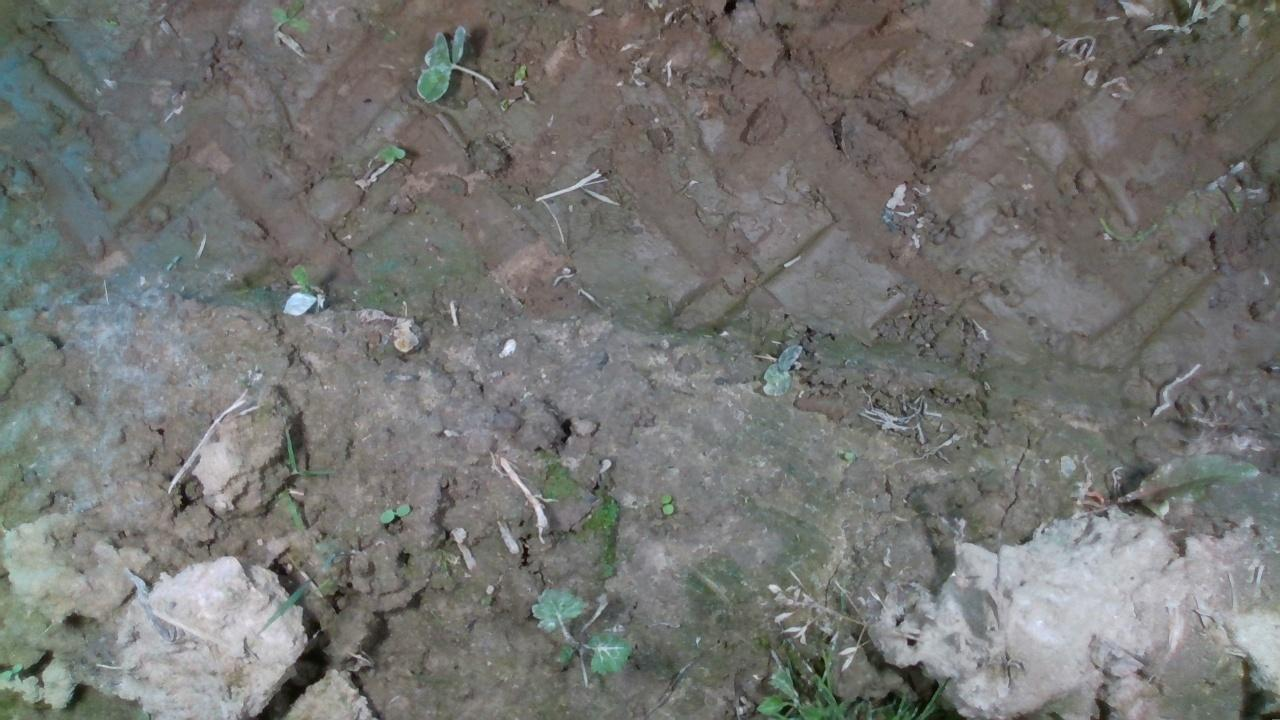weed: (377, 501, 411, 523), (660, 489, 674, 515)
